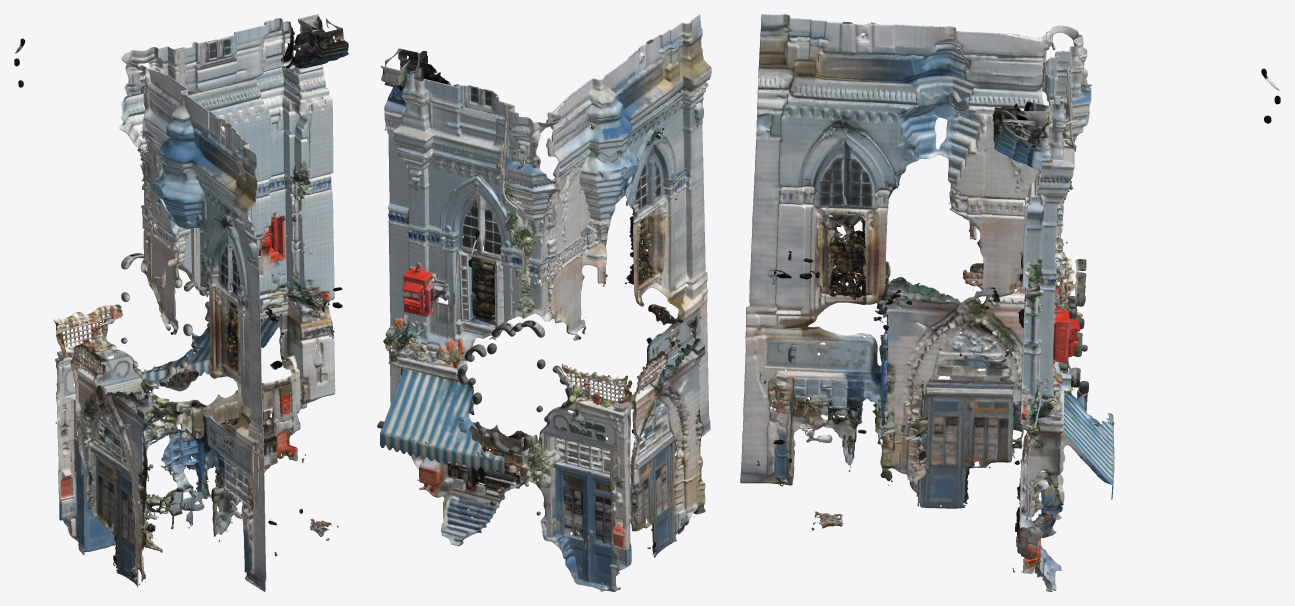
The model's file is pixal3d.glb.
3 renders of one model, left to right at view 1: azimuth 30°, elevation 25°; view 2: azimuth 150°, elevation 25°; view 3: azimuth 270°, elevation 25°, orthographic. The views are drawn at different scales.
Parts seen in each view (by area): view 1: geometry_0; view 2: geometry_0; view 3: geometry_0.
Part boxes in pixels (x1,y1,x2,y2): geometry_0: (14, 14, 348, 591); geometry_0: (377, 14, 711, 591); geometry_0: (740, 14, 1280, 591).
Bounding box in the file's own units: 0.478 × 0.8374 × 0.7781.
Materials: 1 (1 with a texture image).
